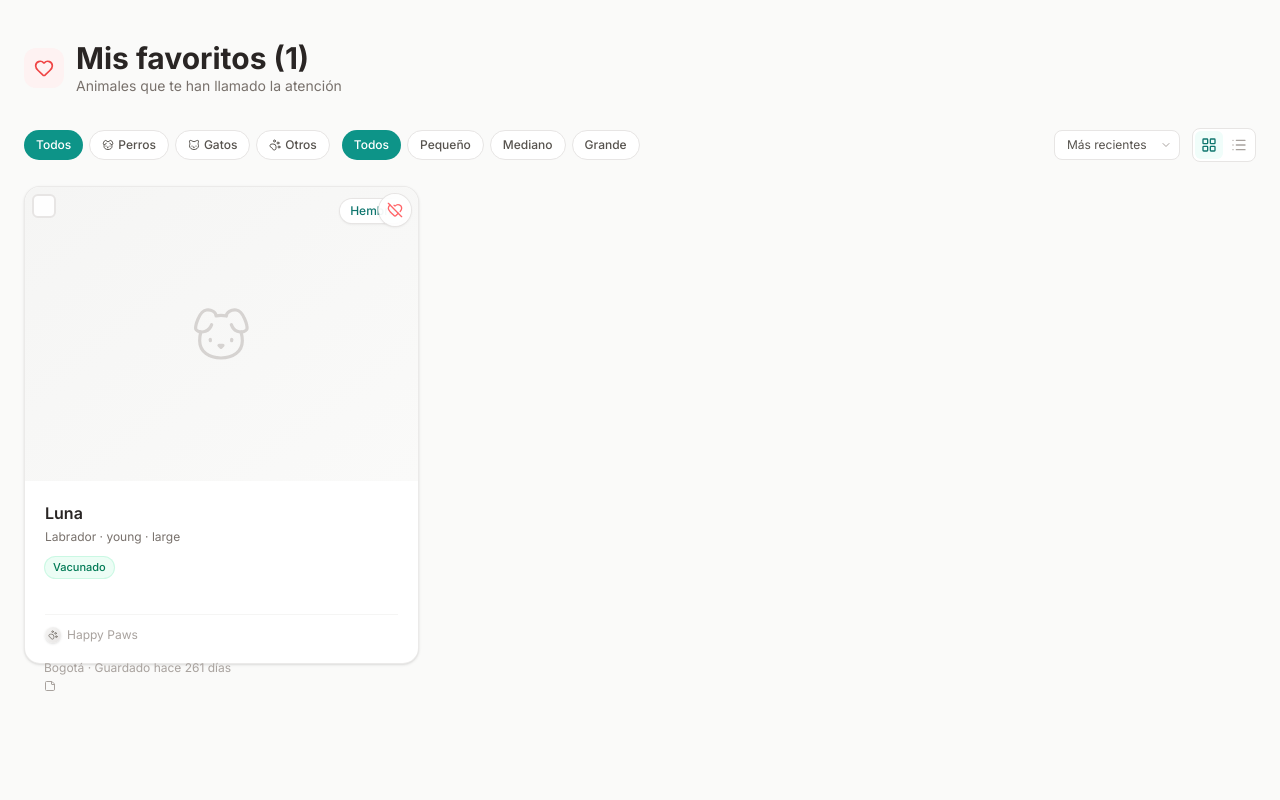
Test: FavoritosPage › shows no-results message when filter has no matches
The width and height of the screenshot is (1280, 800).
Click the button "Gatos" at (213, 145), box [175,130,250,160]
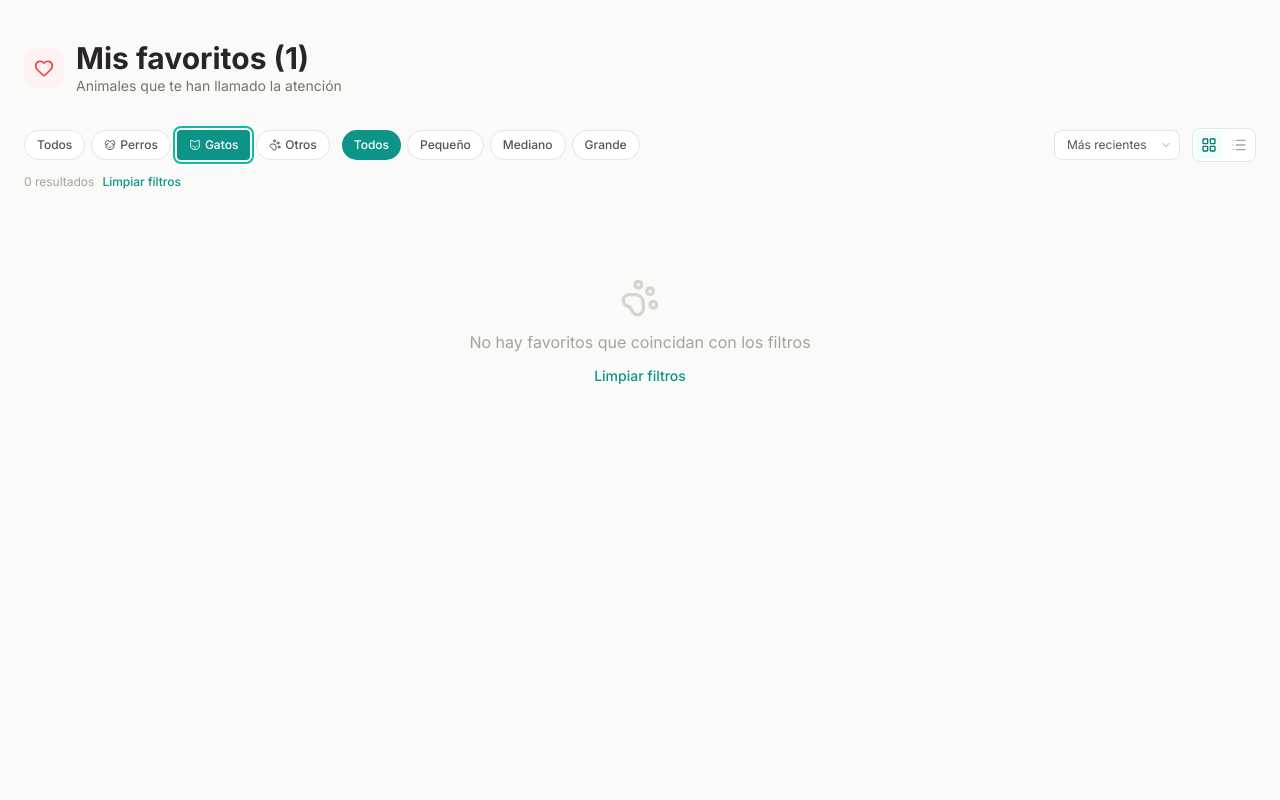
Expected: the text "No hay favoritos que coincidan con los filtros" is shown, [469,332,811,352]
